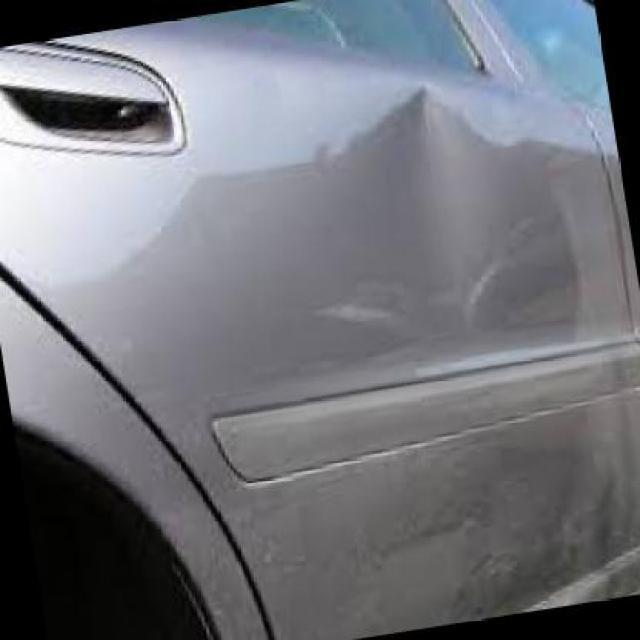dent: (286, 94, 598, 377)
